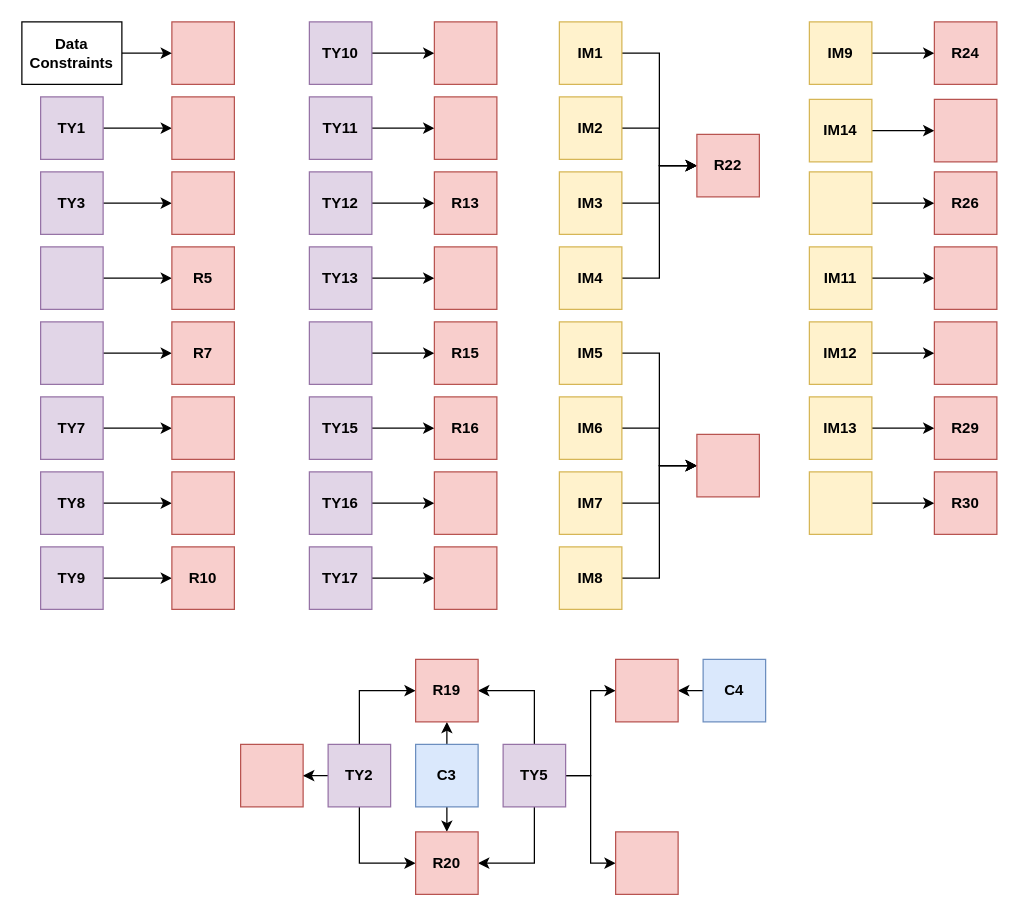
Some shapes in this 1019 by 916 pixel diagram are drawn without their labels. Each missing label, with the box of its shape:
IM10: (808, 171, 872, 234)
IM15: (808, 471, 872, 534)
R1: (171, 21, 234, 84)
R11: (433, 21, 497, 84)
R12: (433, 96, 497, 159)
R14: (433, 246, 497, 309)
R17: (433, 471, 497, 534)
R18: (433, 546, 497, 609)
R2: (171, 96, 234, 159)
R21: (614, 658, 678, 722)
R23: (696, 433, 759, 497)
R25: (933, 98, 997, 162)
R27: (933, 246, 997, 309)
R28: (933, 321, 997, 384)
R3: (239, 743, 303, 807)
R4: (171, 171, 234, 234)
R6: (614, 831, 678, 894)
R8: (171, 396, 234, 459)
R9: (171, 471, 234, 534)
TY14: (308, 321, 372, 384)
TY4: (39, 246, 103, 309)
TY6: (39, 321, 103, 384)
